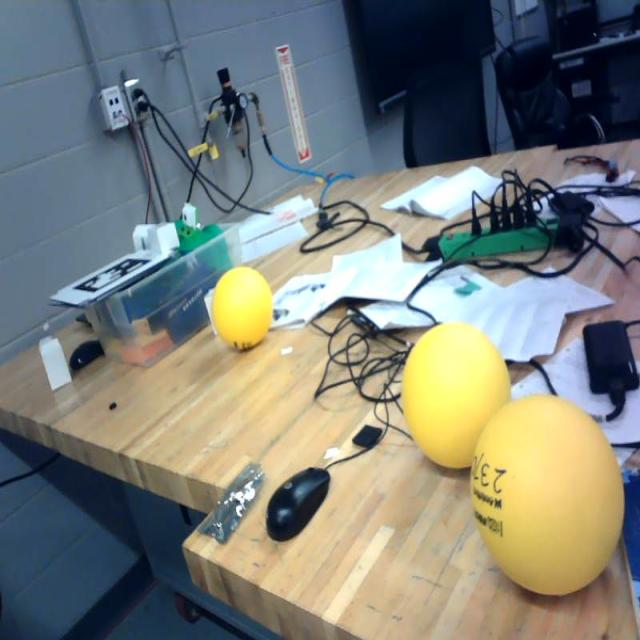Fuel: (472, 394, 624, 596), (403, 321, 513, 469), (213, 266, 272, 350)
